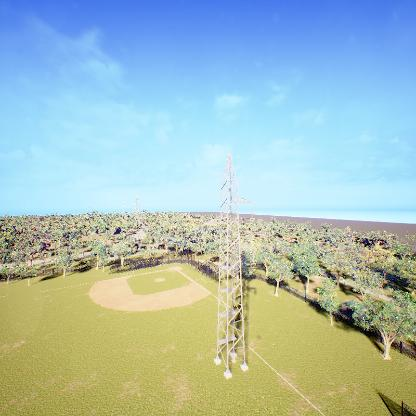tower: (199, 145, 259, 383)
